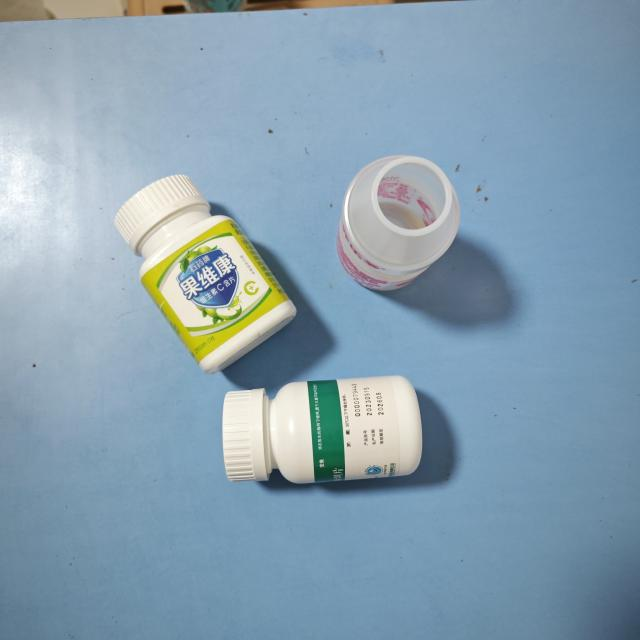-Recyclables - plastic bottle-: (116, 176, 298, 370), (221, 373, 426, 489), (336, 156, 461, 294)
